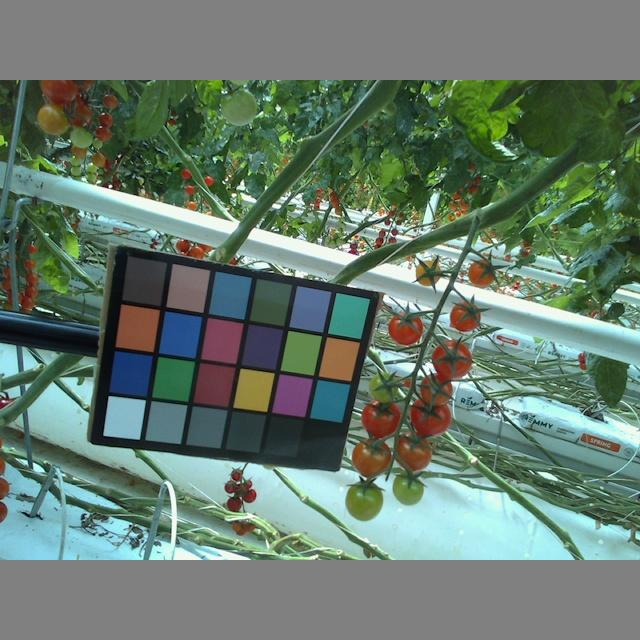green: (346, 479, 383, 522), (219, 87, 256, 127), (389, 474, 425, 506), (368, 372, 400, 402)
pink: (394, 431, 432, 474), (352, 437, 392, 477), (37, 102, 73, 137), (418, 373, 454, 406), (466, 259, 497, 288), (413, 260, 443, 288)
red: (407, 395, 452, 434), (359, 400, 402, 440), (432, 341, 473, 379), (387, 312, 423, 345), (448, 299, 483, 331)
